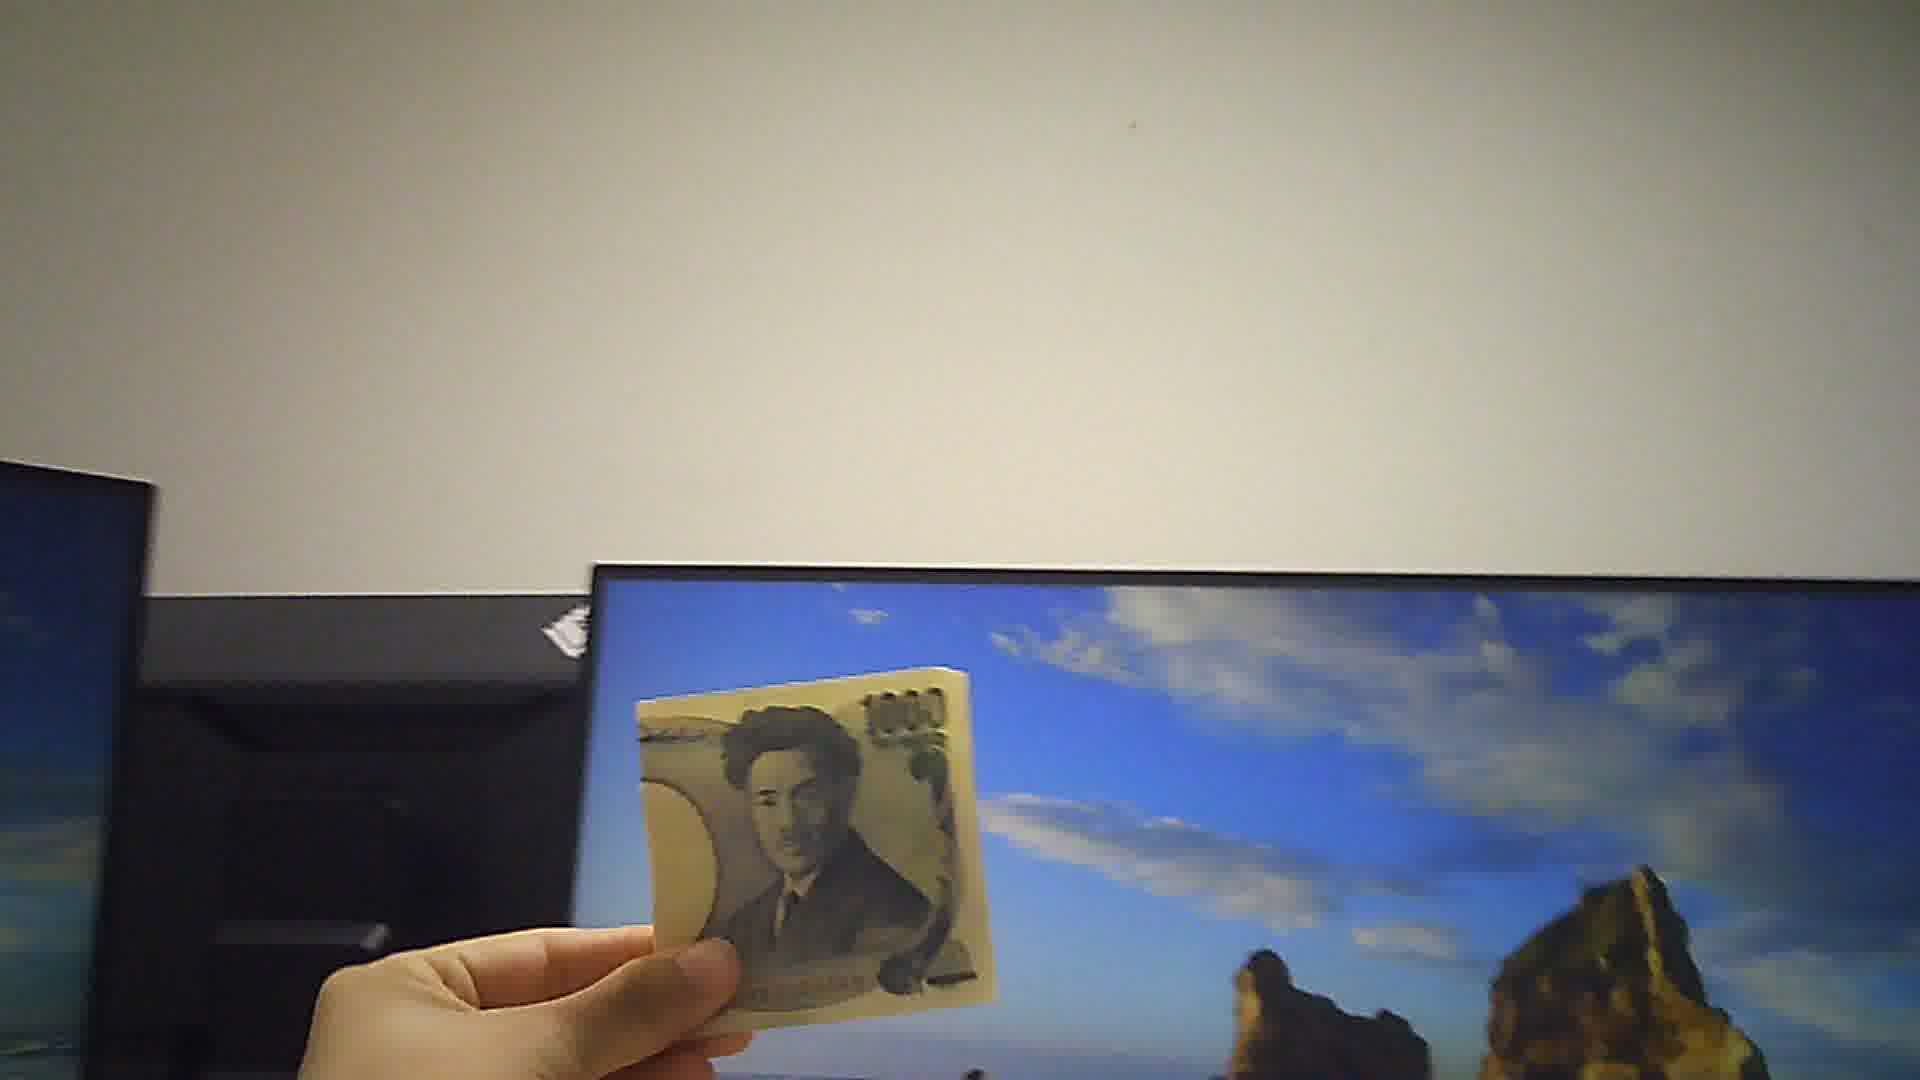1,000 Yen: (628, 673, 1006, 1018)
